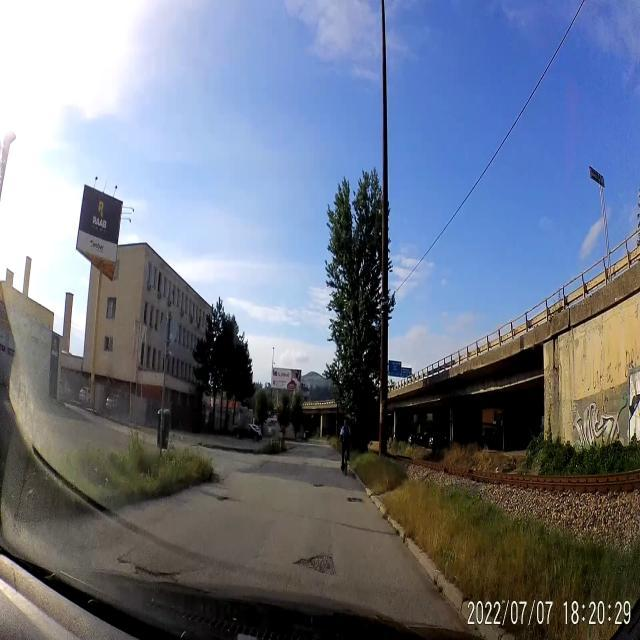Manhole: (346, 492, 364, 504)
Pothole: (292, 548, 336, 578), (132, 562, 184, 586), (206, 484, 234, 509), (310, 482, 326, 489)
